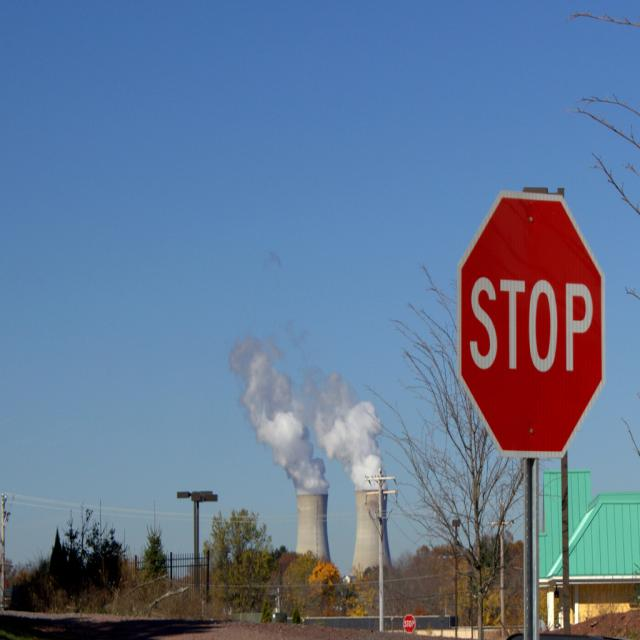Stop-sign: (460, 188, 608, 462)
